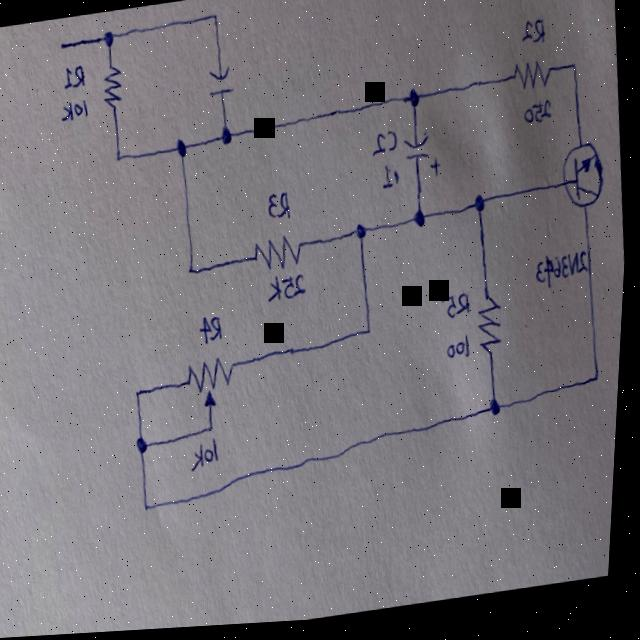capacitor: (403, 133, 445, 186), (206, 67, 237, 102)
junction: (400, 85, 427, 119), (214, 119, 240, 154), (171, 130, 196, 165), (135, 430, 158, 464), (140, 492, 164, 523), (411, 208, 434, 238), (488, 398, 511, 427), (99, 25, 120, 54), (111, 143, 132, 170), (473, 194, 492, 221), (354, 223, 375, 247), (592, 374, 611, 398), (134, 383, 151, 406), (567, 63, 582, 86), (208, 11, 223, 31), (364, 326, 380, 344), (211, 422, 222, 439), (189, 267, 199, 280)
resistor: (186, 355, 242, 414), (250, 233, 315, 279), (477, 295, 511, 368), (507, 61, 554, 103), (99, 62, 126, 120)
terminal: (49, 35, 75, 57)
text: (535, 255, 593, 297), (266, 275, 313, 313), (440, 290, 477, 329), (193, 438, 227, 476), (200, 312, 229, 351), (369, 128, 402, 162), (265, 192, 297, 227), (519, 20, 549, 55), (523, 104, 556, 134), (60, 60, 90, 93), (60, 95, 91, 126), (447, 339, 480, 368), (379, 167, 404, 195)
transistor: (559, 144, 611, 220)
